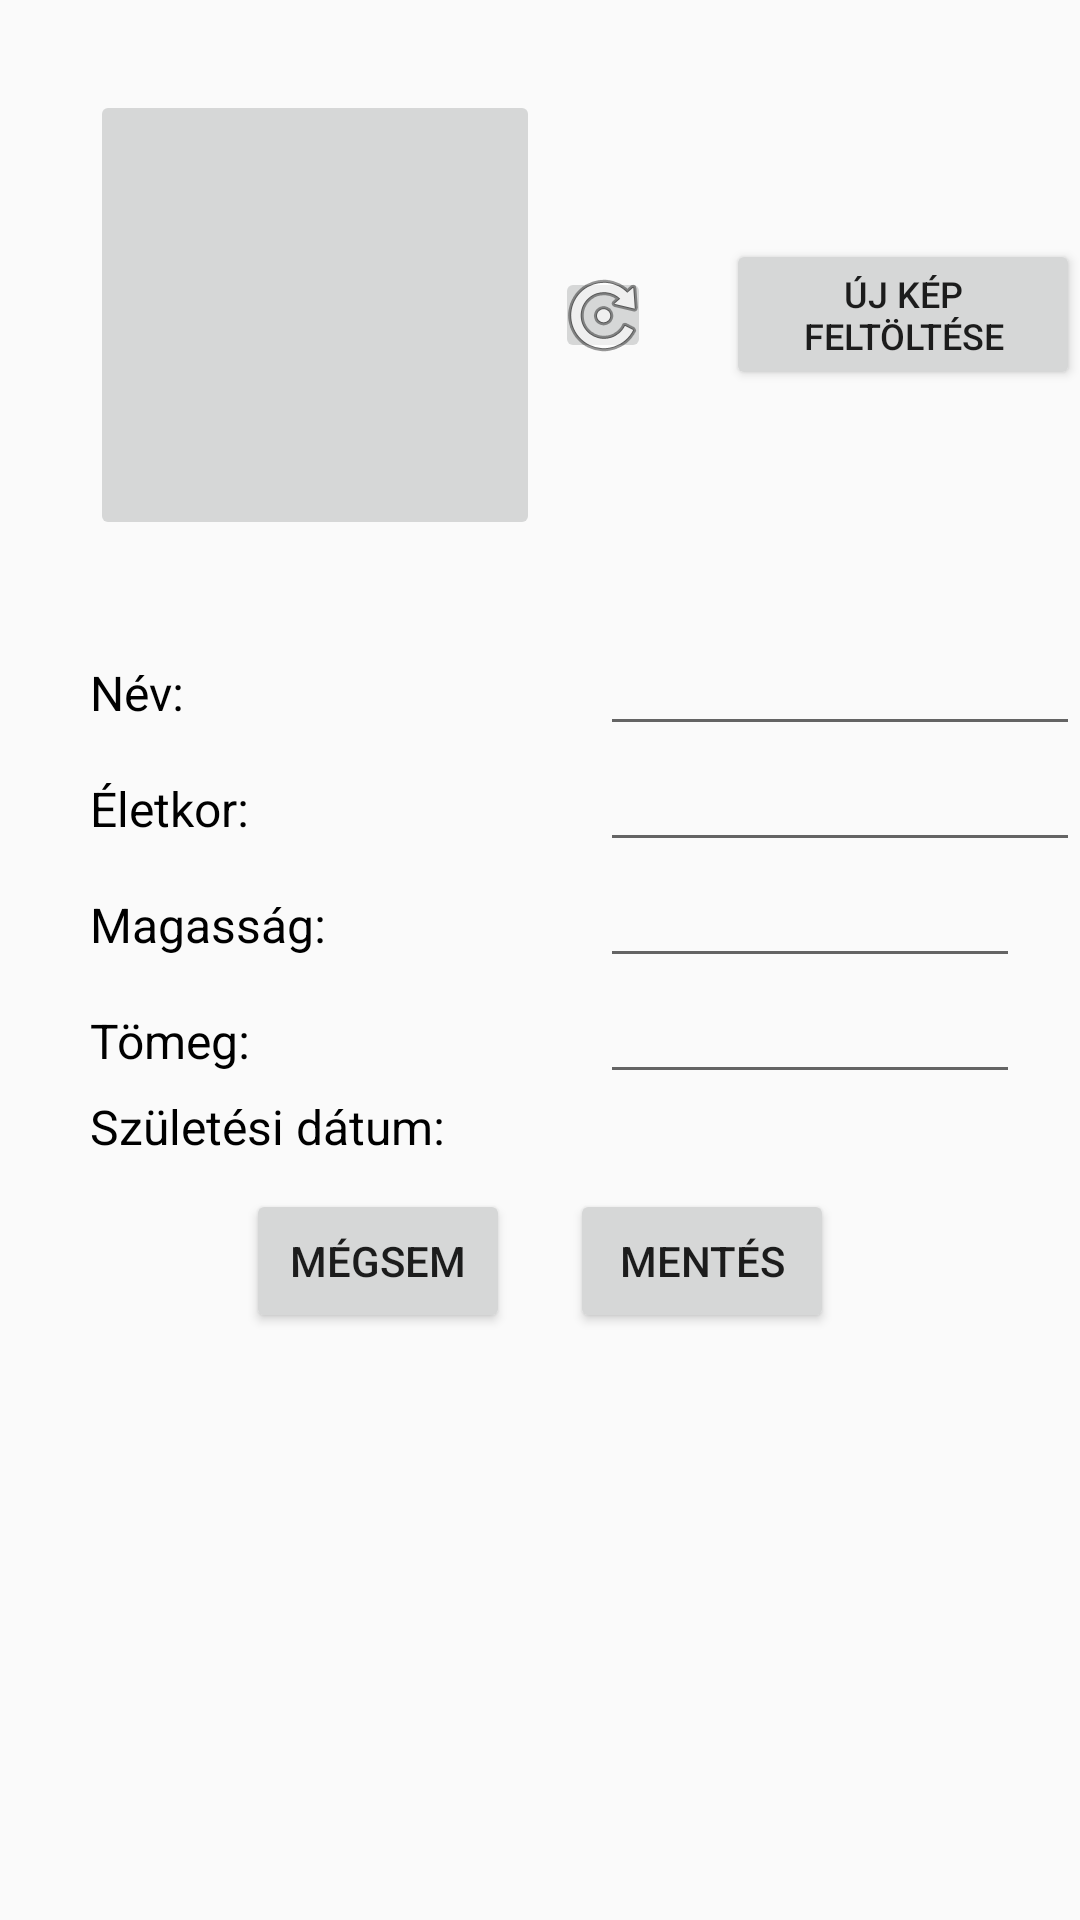

Locate icon controls on the screen. Image size 1080px x 1920px, boxes as (x1, y1, x2, y2).
rotate: (567, 280, 639, 351)
